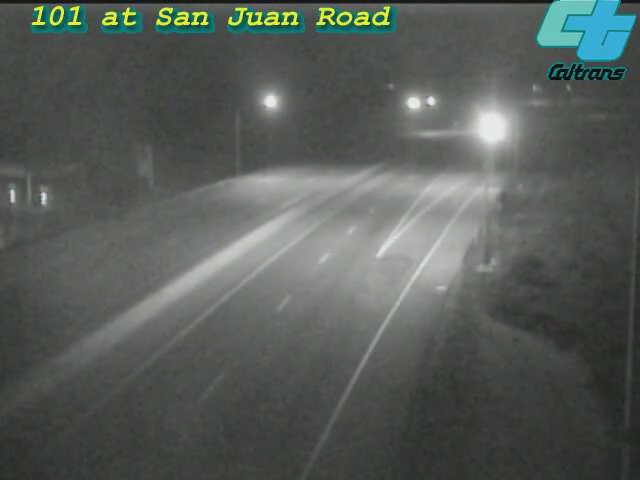vehicle: (461, 106, 511, 156)
